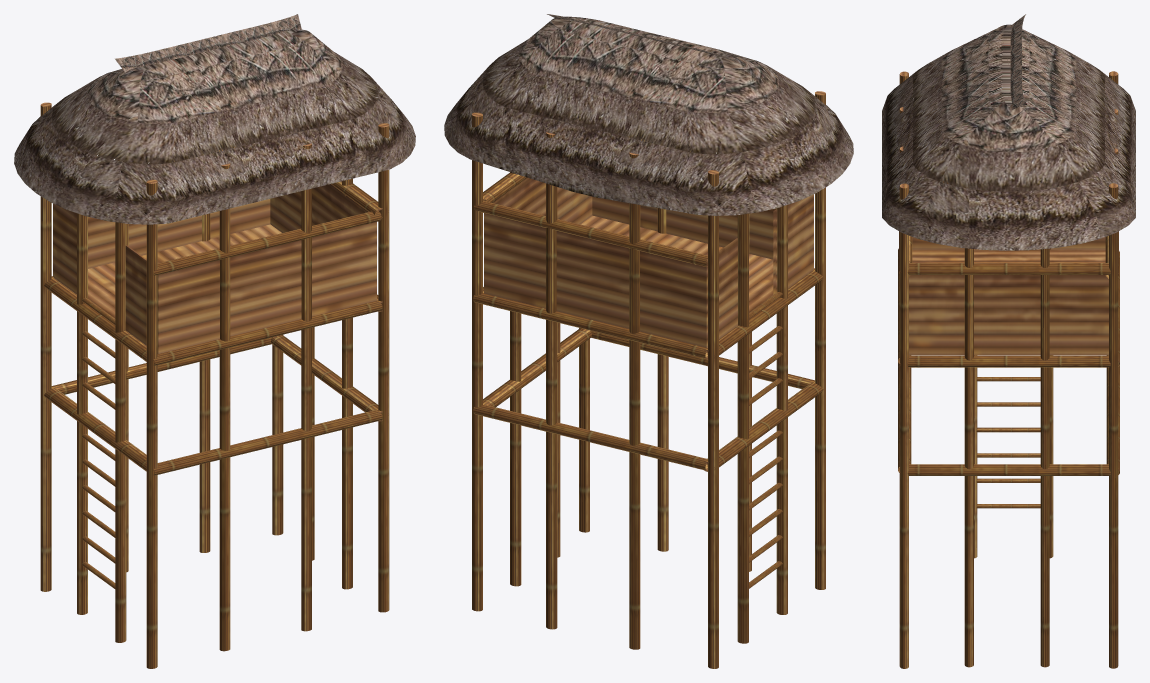
The picture shows the model from 3 angles, left to right: view 1: azimuth 30°, elevation 25°; view 2: azimuth 150°, elevation 25°; view 3: azimuth 270°, elevation 25°; orthographic projection. The views are drawn at different scales.
Visible parts, largest first — view 1: omagua_market.001; view 2: omagua_market.001; view 3: omagua_market.001.
Boxes of the visible parts, x1,y1,x2,y2 form: omagua_market.001: [14, 14, 415, 668]; omagua_market.001: [444, 14, 853, 668]; omagua_market.001: [882, 14, 1135, 668].
Bounding box in the file's own units: 11.01 × 6.83 × 16.4.
